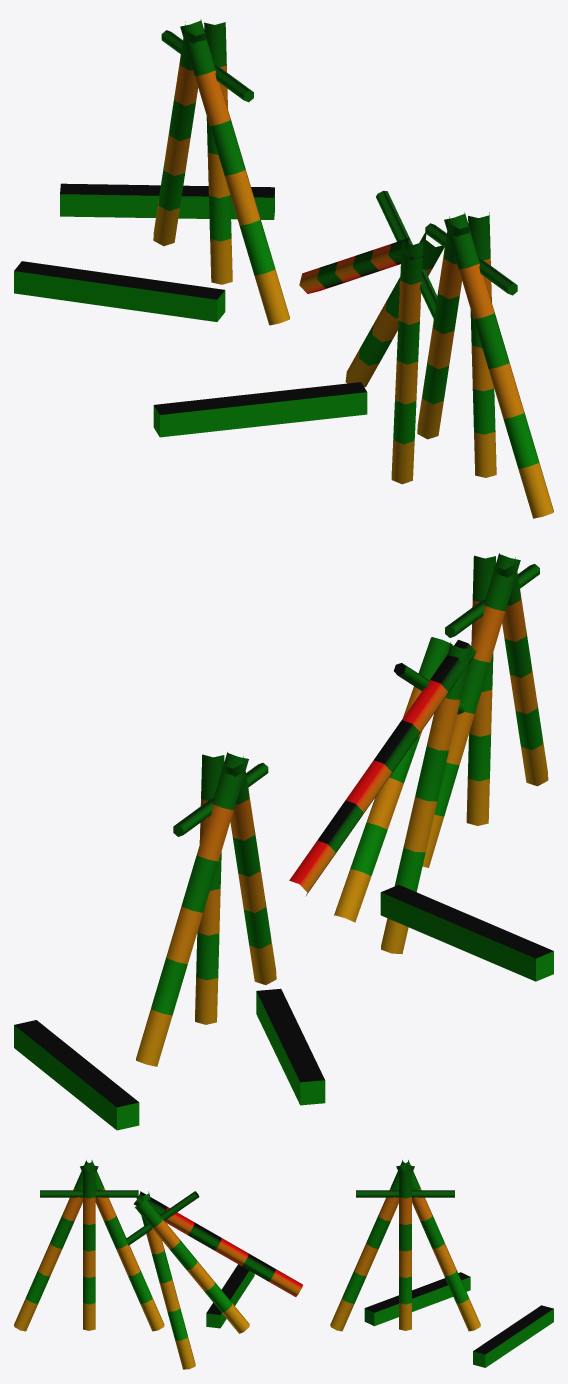
Rendered from smallbarricade_damaged.glb.
The picture shows the model from 3 angles, top to bottom: view 1: azimuth 30°, elevation 25°; view 2: azimuth 150°, elevation 25°; view 3: azimuth 270°, elevation 25°; orthographic projection. The views are drawn at different scales.
Visible parts, largest first — view 1: lod0; view 2: lod0; view 3: lod0.
Part boxes in pixels (x1,y1,x2,y2): lod0: (14, 19, 553, 518); lod0: (14, 553, 553, 1130); lod0: (14, 1160, 553, 1369).
Size of what is drawn, in the model's own units: 2.24 by 2.23 by 5.46.
